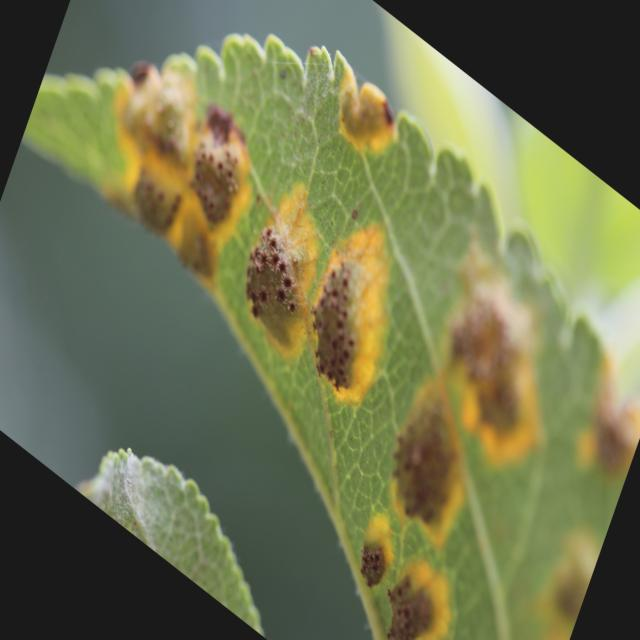Gymnosporangium_Rusts: (49, 13, 554, 639)
